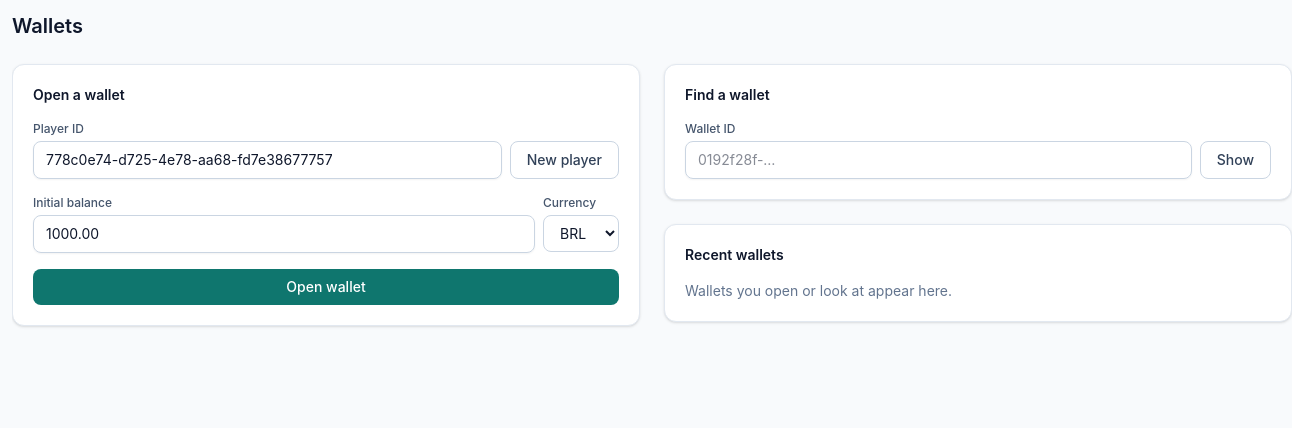
Test: WalletsPage › opening a wallet shows it and remembers it
Replace the text in the field labelled "Player ID" with "0192f28f-5dc0-7d58-bdb2-814ad6a0f4a2" at coordinates (267, 160), box 33,141 -> 502,179
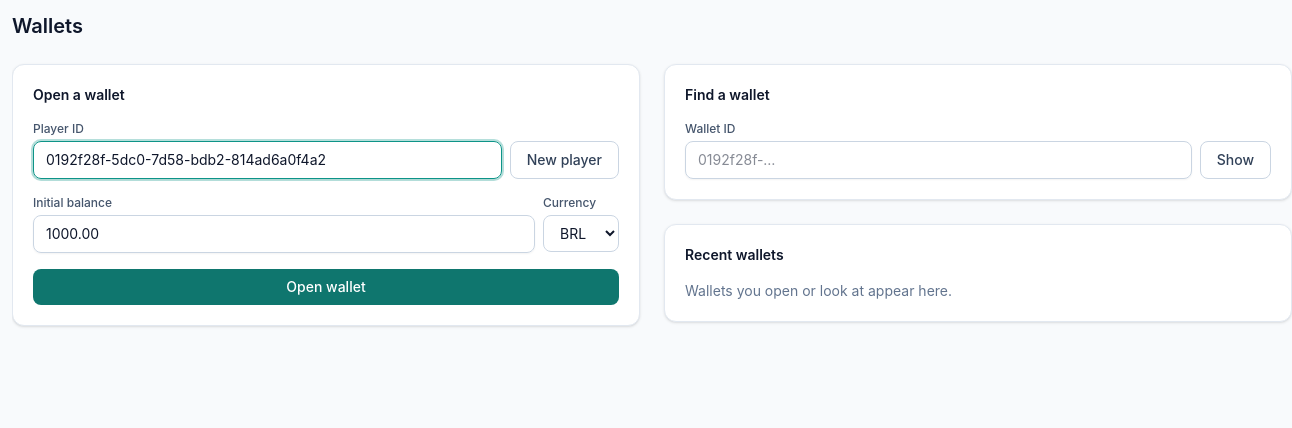
Replace the text in the field labelled "Initial balance" with "250.00" at coordinates (284, 234), box 33,215 -> 535,253
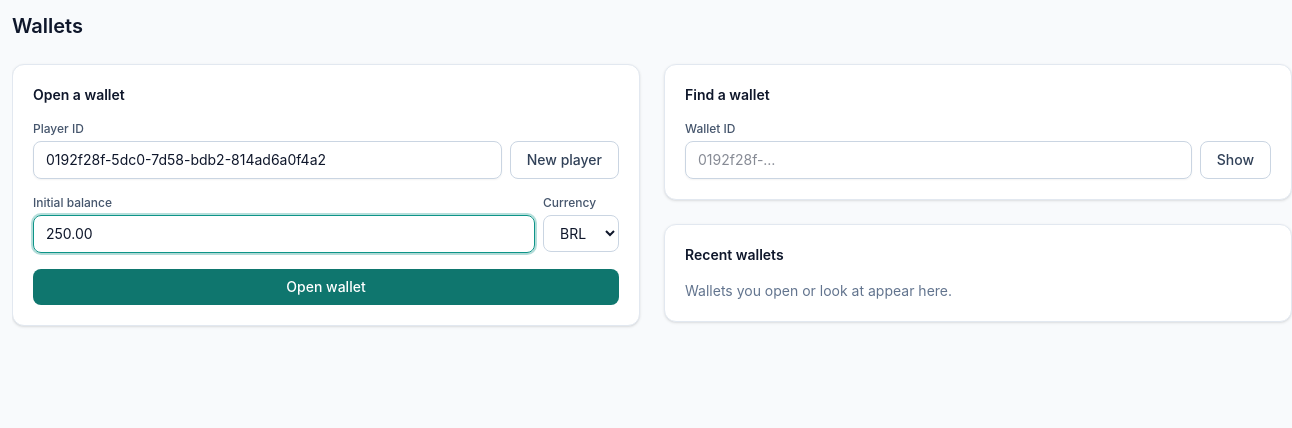
Click the button "Open wallet".
click(326, 287)  # box 33,269 -> 619,305
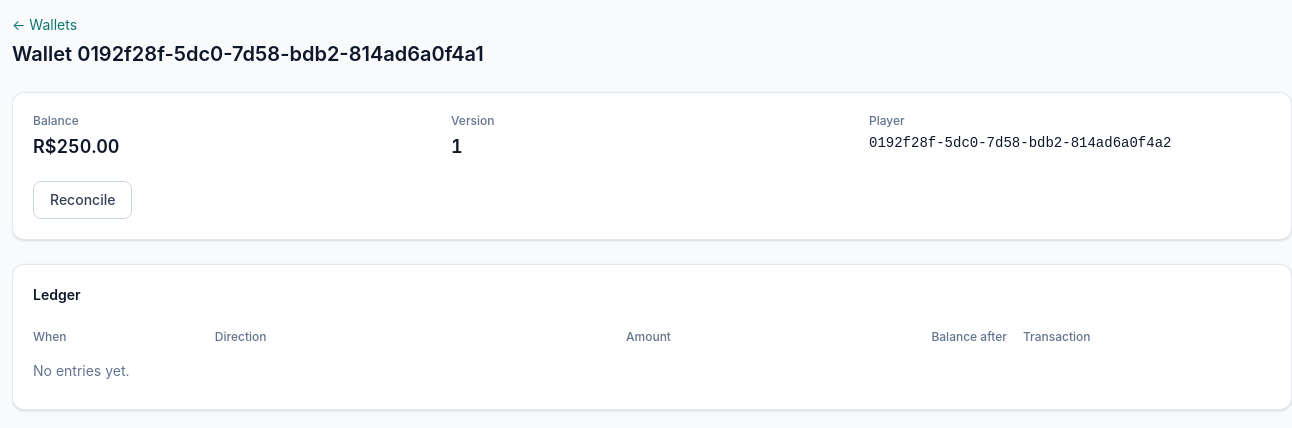
Result: the heading "Wallet 0192f28f-5dc0-7d58-bdb2-814ad6a0f4a1" is shown at 12,42 -> 484,66
Result: the text "R$250.00" is shown at 33,136 -> 120,157
